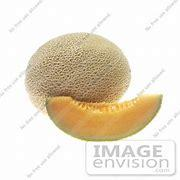Melon Ripe: (25, 33, 132, 119), (44, 95, 163, 142)
